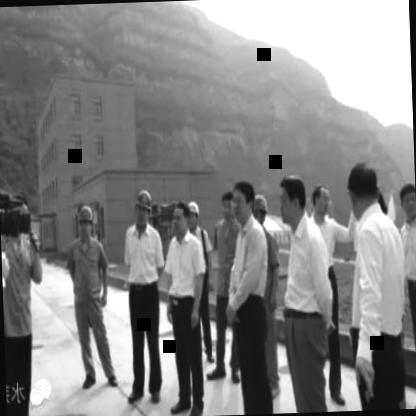head: (346, 156, 382, 227), (275, 171, 308, 229), (230, 174, 257, 226), (308, 182, 333, 224), (395, 181, 416, 223), (170, 198, 191, 238), (219, 190, 236, 224)
helmet: (132, 185, 154, 230), (74, 202, 95, 240), (252, 193, 270, 231), (188, 198, 200, 232)
